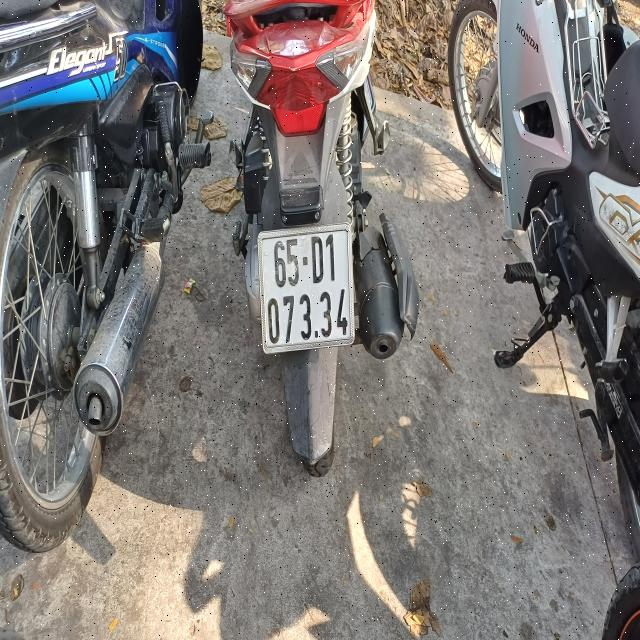0: (267, 297, 281, 343)
1: (326, 233, 336, 282)
3: (298, 292, 312, 342), (320, 290, 332, 336)
4: (258, 224, 356, 348), (337, 286, 348, 335)
5: (287, 238, 299, 286)
6: (274, 240, 287, 288)
7: (283, 294, 295, 343)
D: (310, 234, 324, 284)
